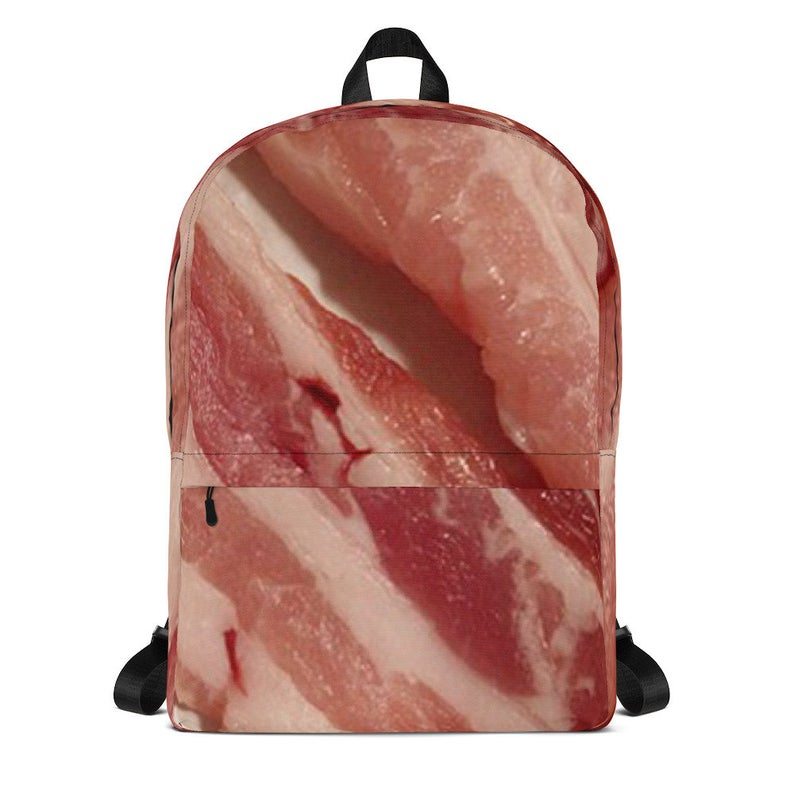bacon: (164, 92, 618, 412), (195, 532, 575, 728)
